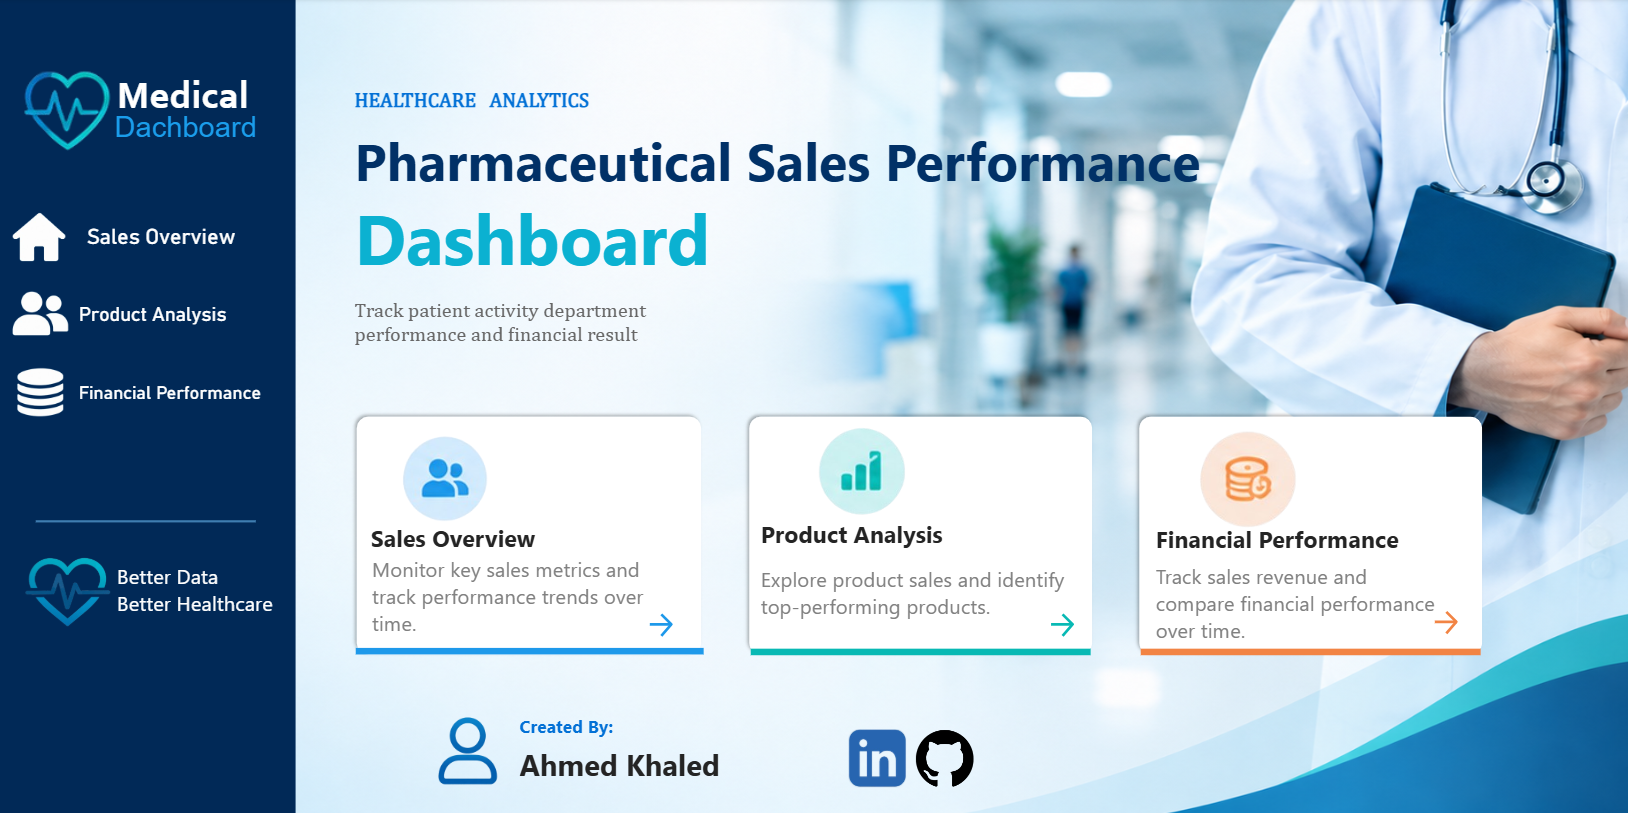

The page's visual inventory and layout, read from the dashboard file:
{"tool":"powerbi","page":{"name":"Page Cover","canvas":[3000,1500],"ordinal":0},"visuals":[{"type":"actionButton","box":[0,0,547.2,1500.5],"z":0},{"type":"textbox","box":[654.1,231.7,1569.8,158.1],"z":1000},{"type":"textbox","box":[654.9,349.8,685.9,181.6],"z":2000},{"type":"textbox","box":[654.9,166.2,438.8,47.9],"z":3000},{"type":"image","box":[47.9,131.1,166.4,151.3],"z":4000},{"type":"textbox","box":[219.4,133.7,259.8,88.3],"z":5000},{"type":"textbox","box":[214.4,206.8,269.8,90.8],"z":6000},{"type":"textbox","box":[654.9,549.5,605.2,111],"z":7000},{"type":"actionButton","box":[0,378.3,517,118.5],"z":8000},{"type":"actionButton","box":[0,520.8,517,118.5],"z":9000},{"type":"actionButton","box":[0,663.3,517,118.5],"z":10000},{"type":"image","box":[27.7,390.9,103.4,95.8],"z":11000},{"type":"image","box":[25.2,532.1,111,95.8],"z":12000},{"type":"image","box":[23.4,672.9,111,95.8],"z":13000},{"type":"shape","box":[70.9,929.3,403.5,58],"z":14000},{"type":"shape","box":[648.1,756.6,653.2,459],"z":15000},{"type":"shape","box":[2083.1,756.6,650.6,459],"z":16000},{"type":"shape","box":[1366.9,756.6,650.6,459],"z":17000},{"type":"shape","box":[656.8,1182.8,637.7,30],"z":18000},{"type":"image","box":[0,973.4,259.8,221.9],"z":19000},{"type":"textbox","box":[219.4,1034,302.6,108.4],"z":20000},{"type":"image","box":[713.7,769.2,211.8,221.9],"z":21000},{"type":"image","box":[1479.8,768.5,212.6,185.3],"z":22000},{"type":"image","box":[2171.3,769.2,237.1,221.9],"z":23000},{"type":"shape","box":[1382,1182.8,622.9,32.8],"z":24000},{"type":"shape","box":[2095.7,1182.8,622.9,32.8],"z":25000},{"type":"textbox","box":[684,959.3,313.4,73.6],"z":26000},{"type":"textbox","box":[686.9,1022.2,531.4,160.8],"z":27000},{"type":"textbox","box":[1400.8,953.9,343.4,62.7],"z":28000},{"type":"textbox","box":[1400.8,1041.1,596.8,136.3],"z":29000},{"type":"textbox","box":[2123,962,463.3,70.9],"z":30000},{"type":"textbox","box":[2123,1032.9,512.4,149.9],"z":31000},{"type":"actionButton","box":[1174.6,1114.6,81.8,68.1],"z":32000},{"type":"actionButton","box":[1910.4,1114.6,81.8,68.1],"z":33000},{"type":"actionButton","box":[2613.6,1111.9,81.8,68.1],"z":34000},{"type":"textbox","box":[956.6,1313.6,196.2,54.5],"z":35000},{"type":"textbox","box":[956.6,1368.1,376.1,79],"z":36000},{"type":"image","box":[774,1283.6,177.1,193.5],"z":37000},{"type":"image","box":[1552.3,1340.8,119.9,106.3],"z":38000},{"type":"image","box":[1676.1,1340.8,119.9,106.3],"z":39000}]}

Visuals, with their boxes in screenshot pixels (x1, y1, x2, y2), scaled from the page's 3000x1500 canvas onto the 1628x813 screenshot:
actionButton: Rect(0, 0, 297, 812)
textbox: Rect(355, 126, 1207, 211)
textbox: Rect(355, 190, 728, 288)
textbox: Rect(355, 90, 594, 116)
image: Rect(26, 71, 116, 153)
textbox: Rect(119, 72, 260, 120)
textbox: Rect(116, 112, 263, 161)
textbox: Rect(355, 298, 684, 358)
actionButton: Rect(0, 205, 281, 269)
actionButton: Rect(0, 282, 281, 347)
actionButton: Rect(0, 360, 281, 424)
image: Rect(15, 212, 71, 264)
image: Rect(14, 288, 74, 340)
image: Rect(13, 365, 73, 417)
shape: Rect(38, 504, 257, 535)
shape: Rect(352, 410, 706, 659)
shape: Rect(1130, 410, 1483, 659)
shape: Rect(742, 410, 1095, 659)
shape: Rect(356, 641, 702, 657)
image: Rect(0, 528, 141, 648)
textbox: Rect(119, 560, 283, 619)
image: Rect(387, 417, 502, 537)
image: Rect(803, 417, 918, 517)
image: Rect(1178, 417, 1307, 537)
shape: Rect(750, 641, 1088, 659)
shape: Rect(1137, 641, 1475, 659)
textbox: Rect(371, 520, 541, 560)
textbox: Rect(373, 554, 661, 641)
textbox: Rect(760, 517, 947, 551)
textbox: Rect(760, 564, 1084, 638)
textbox: Rect(1152, 521, 1403, 560)
textbox: Rect(1152, 560, 1430, 641)
actionButton: Rect(637, 604, 682, 641)
actionButton: Rect(1037, 604, 1081, 641)
actionButton: Rect(1418, 603, 1463, 640)
textbox: Rect(519, 712, 626, 742)
textbox: Rect(519, 742, 723, 784)
image: Rect(420, 696, 516, 801)
image: Rect(842, 727, 907, 784)
image: Rect(910, 727, 975, 784)
